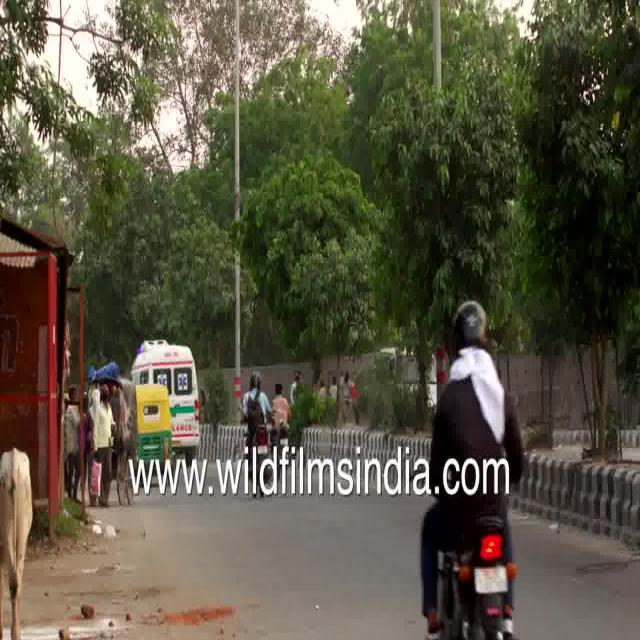ambulance: (132, 339, 206, 444)
